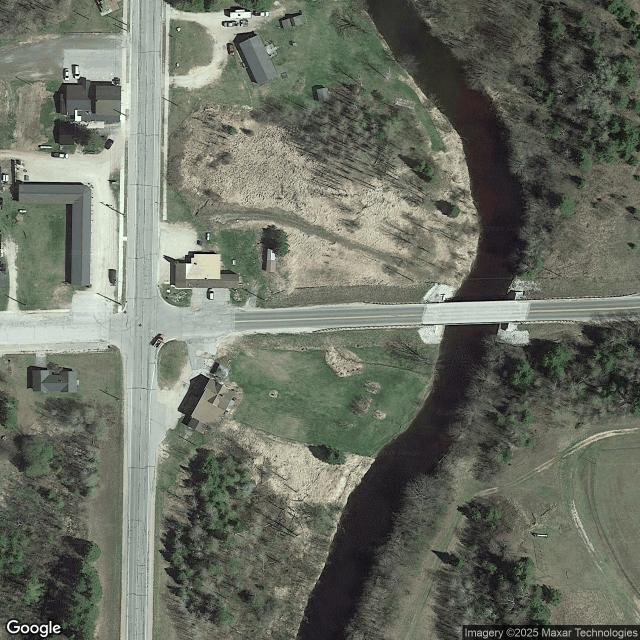Propane: (39, 145, 52, 149), (19, 209, 27, 213), (207, 233, 210, 241)
